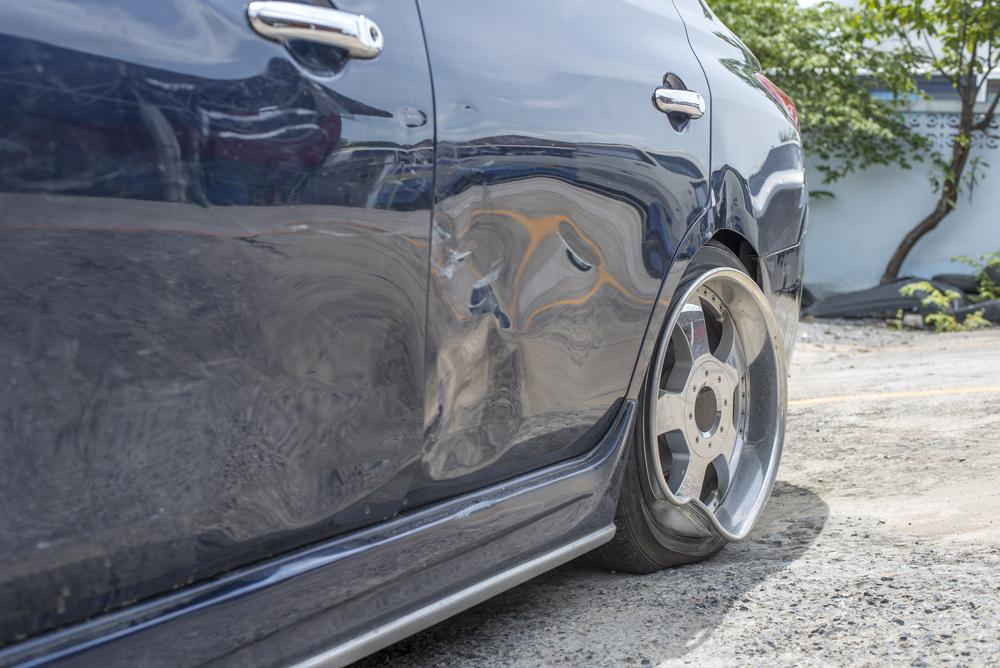dent: (426, 194, 602, 480), (258, 297, 426, 524)
tire flat: (587, 244, 788, 573)
